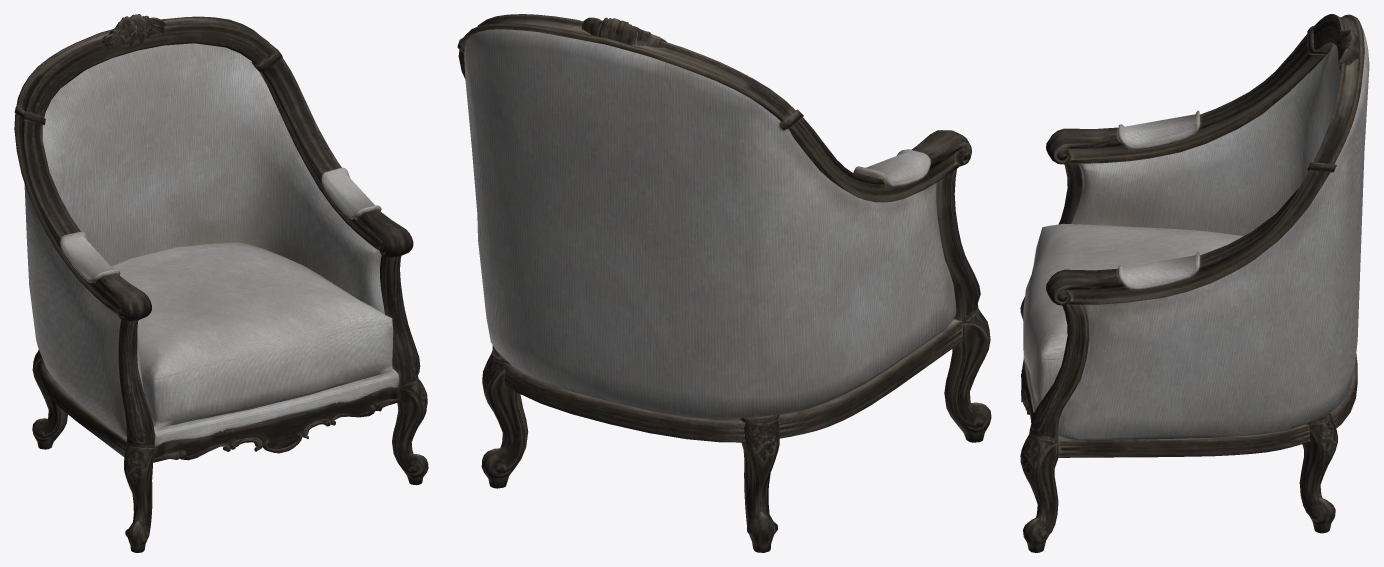
File: ph-ArmChair_01.glb
3 renders of one model, left to right at view 1: azimuth 30°, elevation 25°; view 2: azimuth 150°, elevation 25°; view 3: azimuth 270°, elevation 25°, orthographic. The views are drawn at different scales.
Parts seen in each view (by area): view 1: ArmChair_01; view 2: ArmChair_01; view 3: ArmChair_01.
Boxes of the visible parts, x1,y1,x2,y2 form: ArmChair_01: [14, 14, 428, 552]; ArmChair_01: [457, 14, 991, 552]; ArmChair_01: [1020, 14, 1369, 552].
Bounding box in the file's own units: 0.7966 × 1 × 0.719.
Materials: 1 (1 with a texture image).
